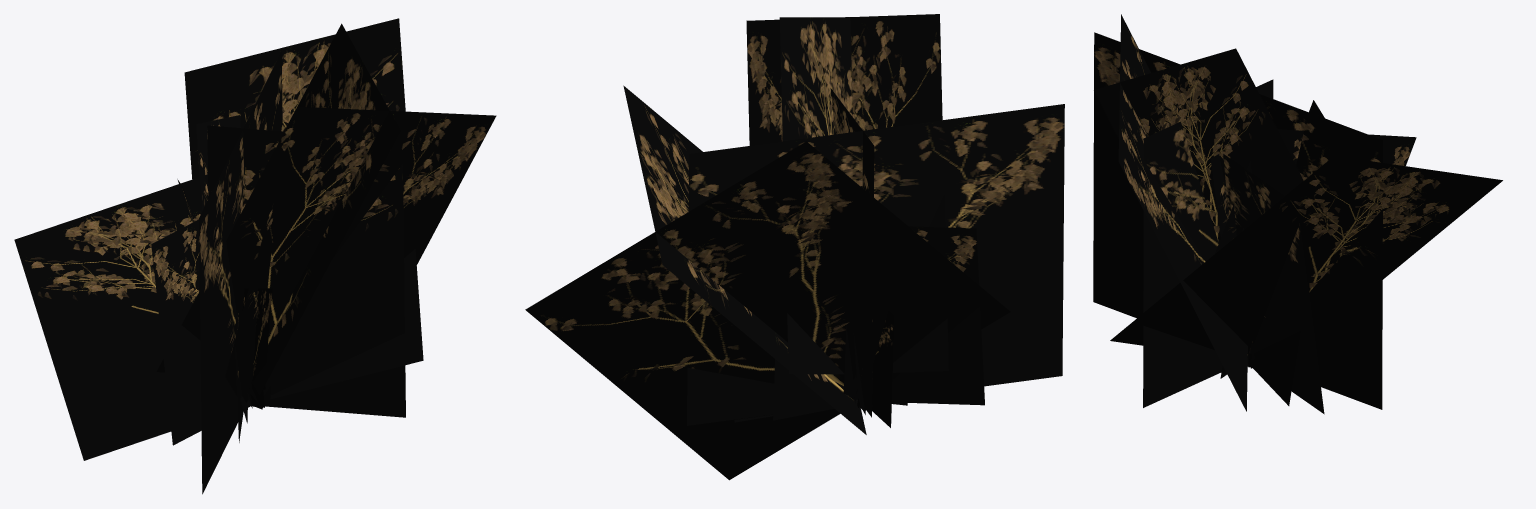
File: wft_fall.glb
The picture shows the model from 3 angles, left to right: view 1: azimuth 30°, elevation 25°; view 2: azimuth 150°, elevation 25°; view 3: azimuth 270°, elevation 25°; orthographic projection. The views are drawn at different scales.
Visible parts, largest first — view 1: Wayfaring tree03; view 2: Wayfaring tree03; view 3: Wayfaring tree03.
Boxes of the visible parts, bbox=[...] form: Wayfaring tree03: bbox=[14, 18, 496, 494]; Wayfaring tree03: bbox=[525, 14, 1064, 480]; Wayfaring tree03: bbox=[1093, 14, 1502, 414].
Size of the model in its own units: 82.48 by 94.9 by 84.25.
1 material, 1 textured.
